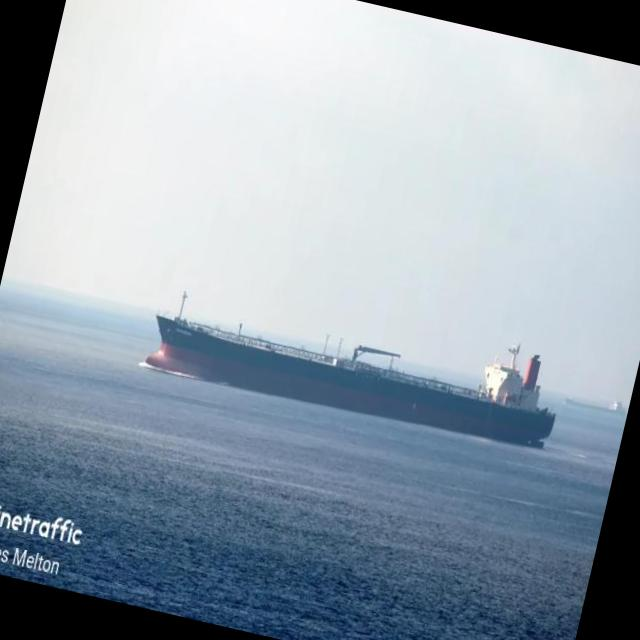Tanker: (141, 316, 554, 446)
